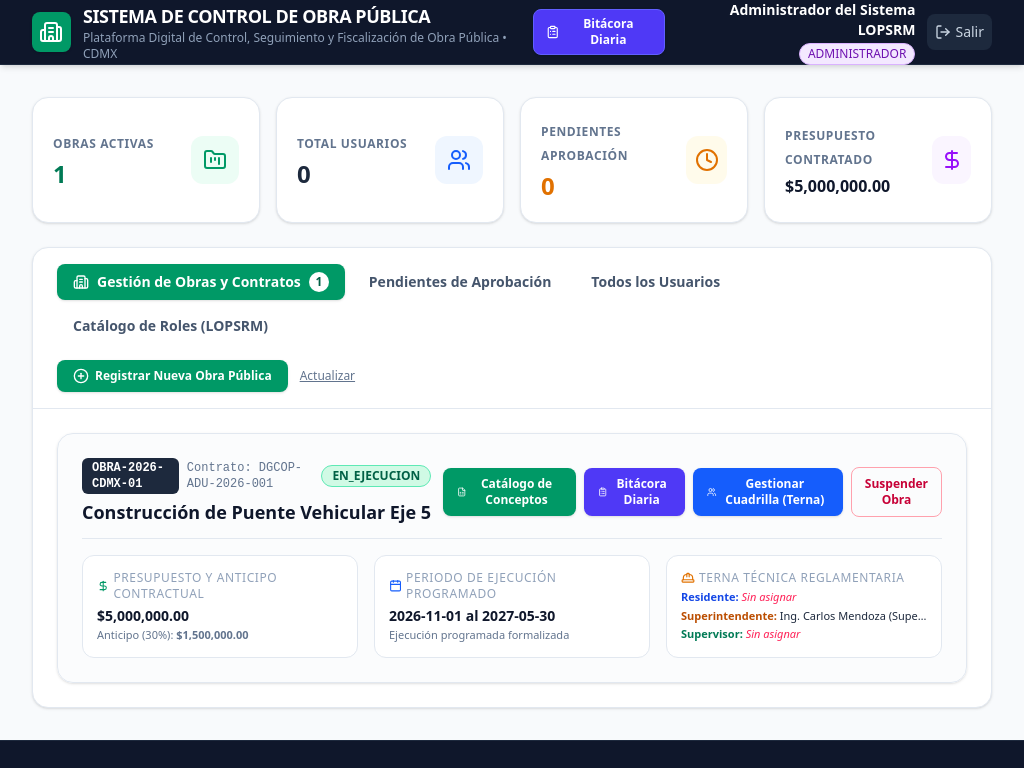
Sprint 3: Pruebas de Interfaz de Usuario (HU-014 a HU-019) › HU-019 Inmutabilidad Normativa: en estado BLOQUEADO, la UI deshabilita y bloquea modificaciones directas
What coordinates should you click on to do the following:
click the button "Catálogo de Conceptos"
I would click on:
 (510, 492)
Its box is [443, 468, 576, 516].
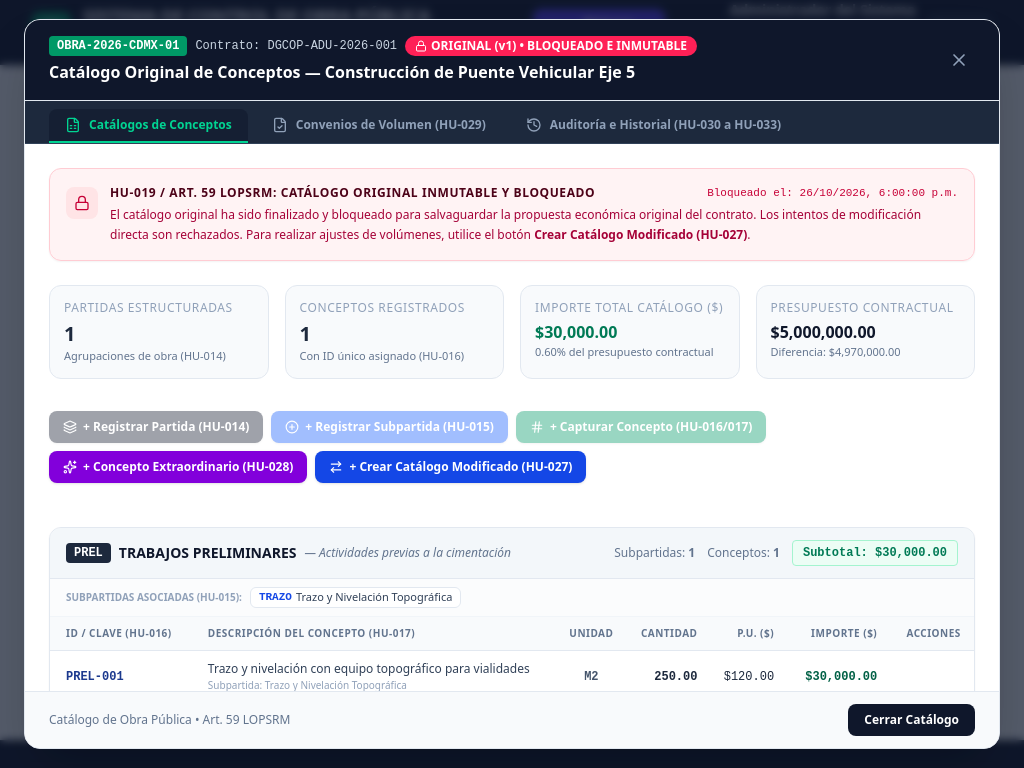
Expected: the text "ORIGINAL (v1) • BLOQUEADO E INMUTABLE" is shown, [405, 36, 697, 56]
Expected: the text "HU-019 / Art. 59 LOPSRM: Catálogo Original Inmutable y Bloqueado" is shown, [110, 185, 595, 201]
Expected: the text "Bloqueado el: 26/10/2026, 6:00:00 p.m." is shown, [707, 186, 958, 201]
